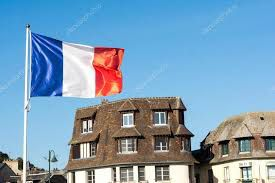French Flag: (30, 36, 123, 99)
